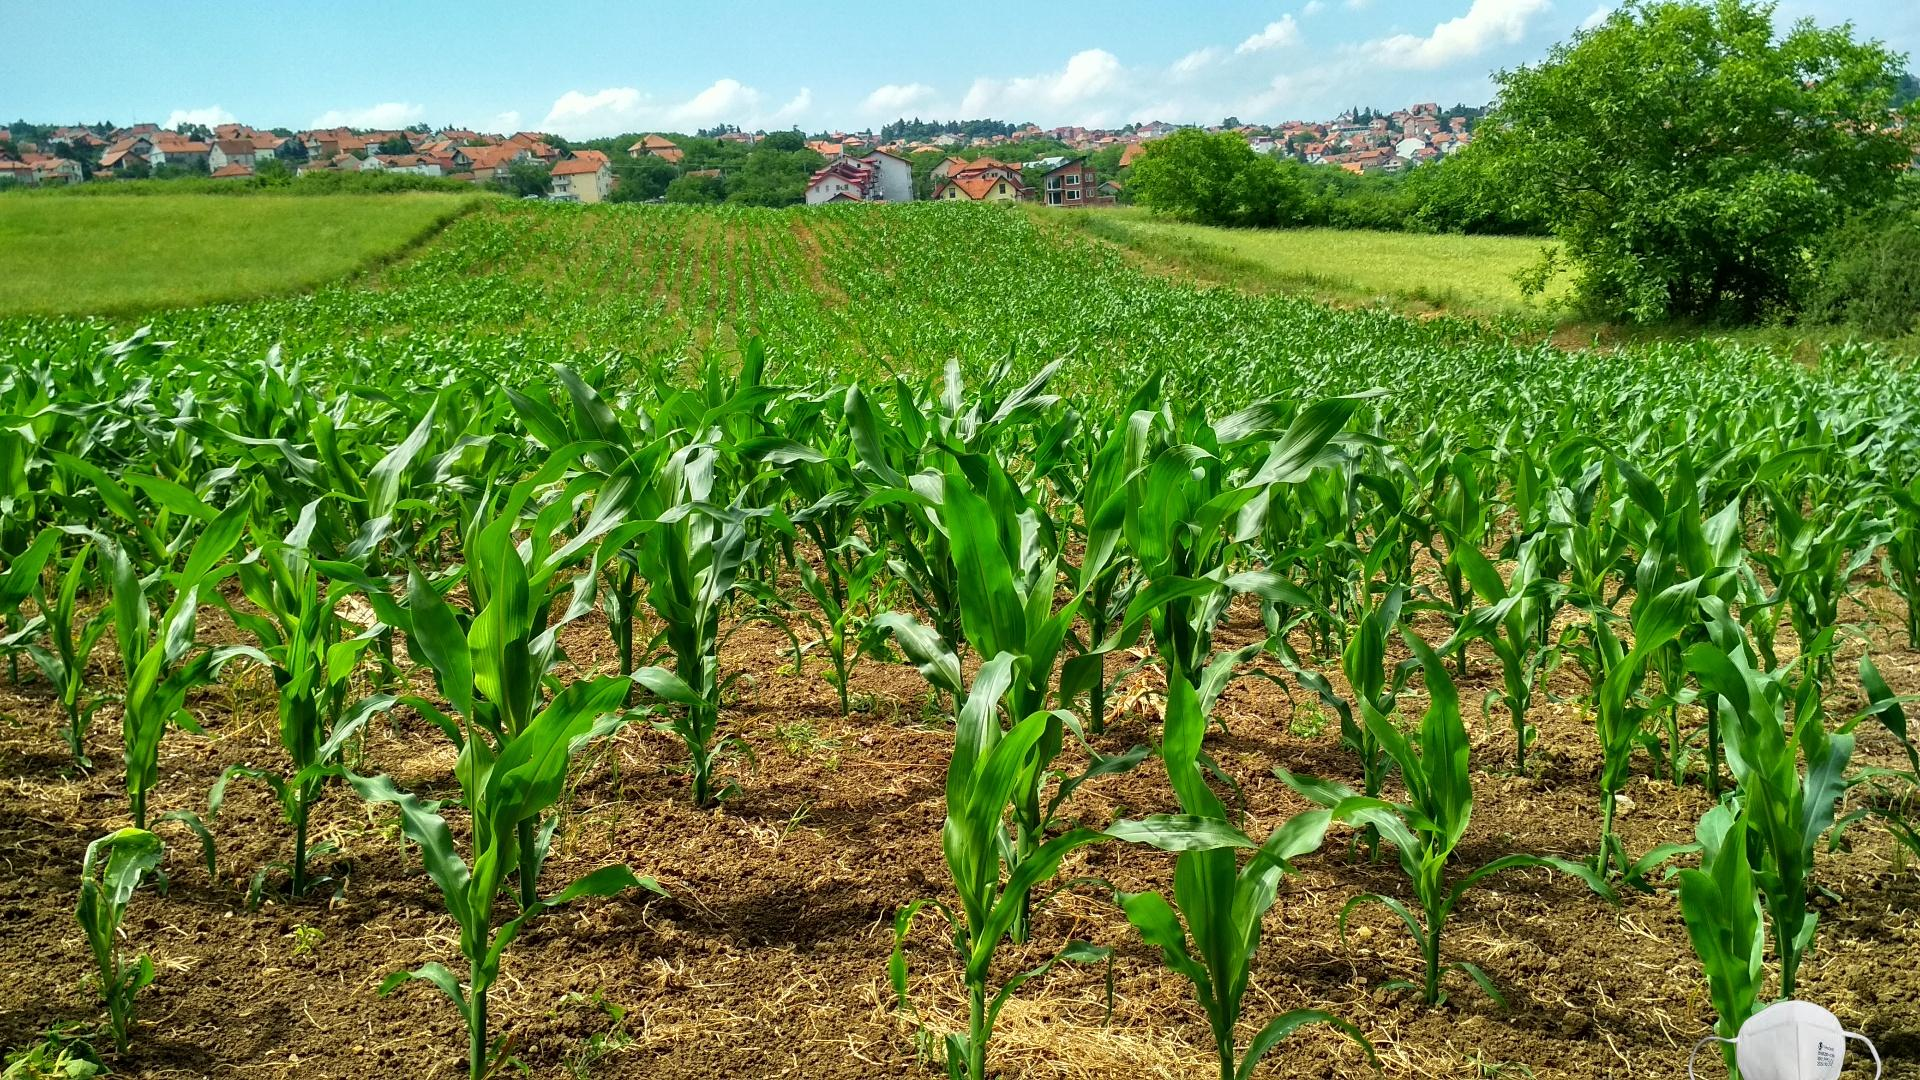trash: (1685, 997, 1884, 1080)
